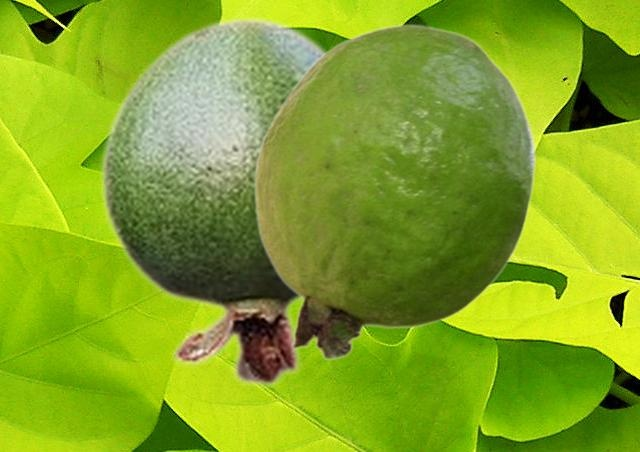guava: (253, 23, 535, 360), (99, 15, 328, 388)
